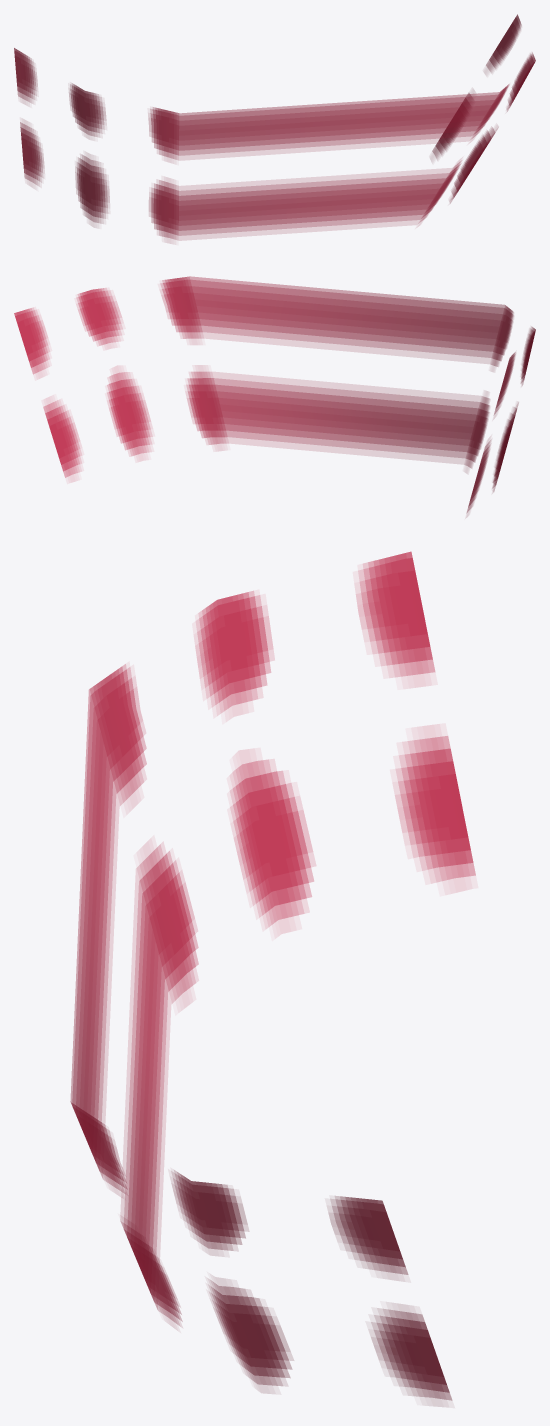
3 views of the same model, one above another, from view 1: azimuth 30°, elevation 25°; view 2: azimuth 150°, elevation 25°; view 3: azimuth 270°, elevation 25° (orthographic). The views are drawn at different scales.
Parts seen in each view (by area): view 1: ef_465; view 2: ef_465; view 3: ef_465.
Part boxes in pixels (x1,y1,x2,y2): ef_465: (14, 14, 535, 243); ef_465: (14, 276, 535, 517); ef_465: (70, 551, 475, 1406).
Bounding box in the file's own units: 0.8075 × 0.3553 × 0.2882.
Materials: 1 (1 with a texture image).
